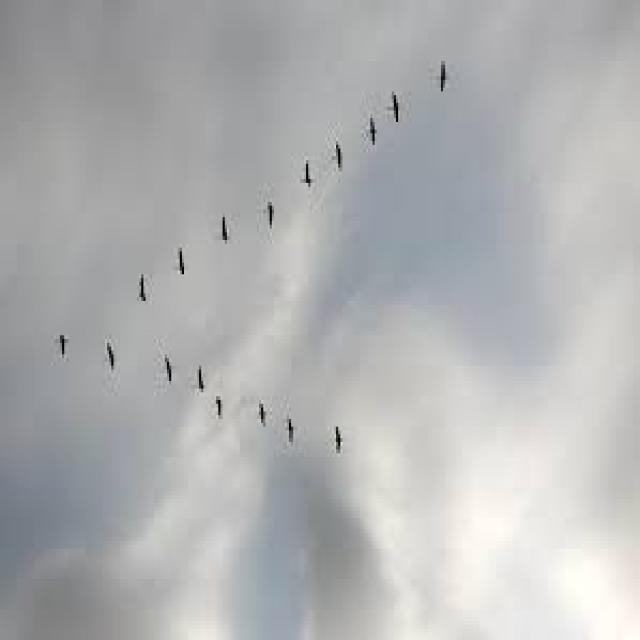bird: (184, 341, 210, 429), (294, 148, 322, 218), (430, 44, 458, 112), (150, 343, 186, 395), (126, 257, 158, 311), (213, 206, 243, 263), (169, 219, 193, 284), (50, 308, 74, 366), (100, 322, 120, 391), (327, 118, 349, 179), (259, 194, 283, 244), (250, 391, 272, 444), (386, 84, 406, 130), (361, 113, 384, 152), (212, 392, 227, 450), (288, 412, 303, 468), (332, 417, 348, 466)
